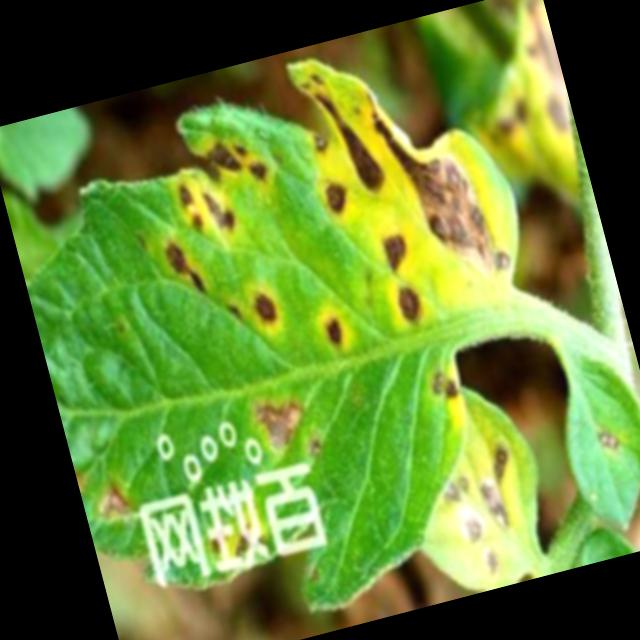Early_blight: (362, 60, 515, 299), (296, 63, 389, 202), (184, 125, 274, 205), (470, 441, 531, 533), (175, 172, 245, 246), (247, 389, 314, 457), (158, 230, 212, 304), (205, 517, 271, 565), (309, 168, 357, 226), (374, 221, 419, 278), (248, 279, 288, 336), (388, 281, 433, 330), (89, 479, 135, 525), (426, 360, 466, 408), (455, 501, 492, 547), (475, 542, 506, 581), (320, 316, 346, 349), (595, 428, 623, 452)
